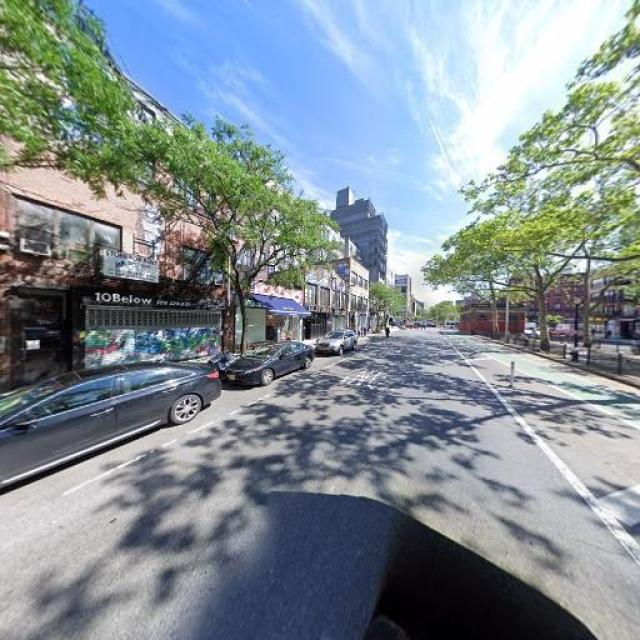Building: (1, 110, 230, 399), (233, 277, 303, 355), (305, 262, 349, 342), (352, 262, 369, 333)
